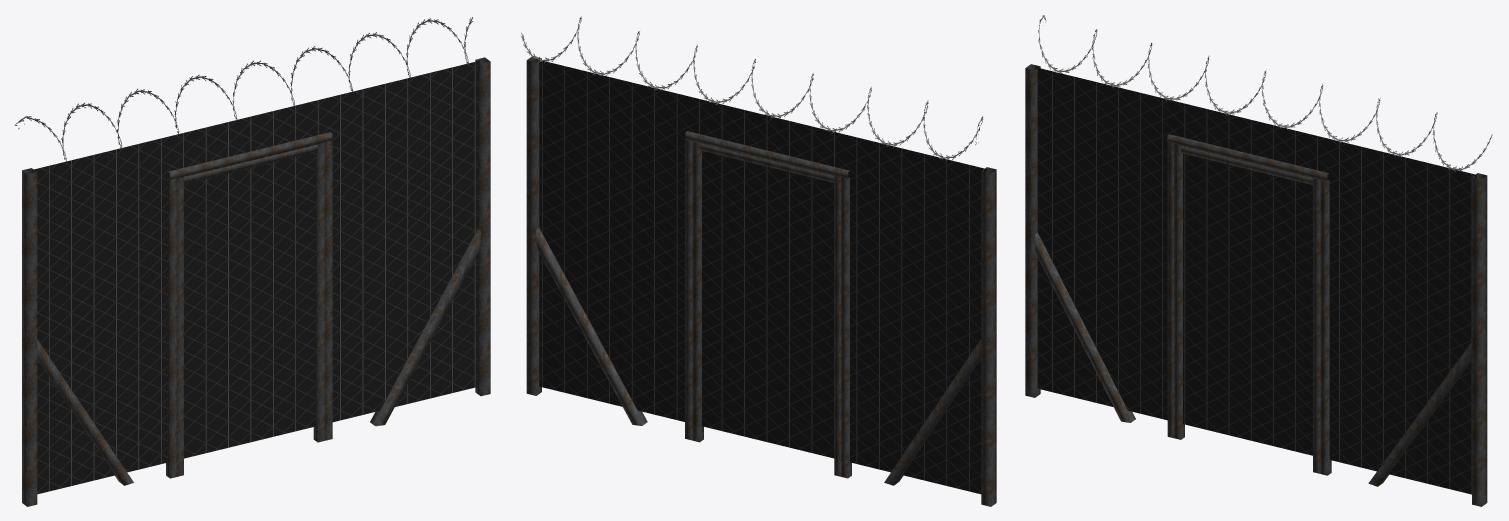
The model's file is VallaConPuerta.fbx.
3 views of the same model, side by side, from view 1: azimuth 30°, elevation 25°; view 2: azimuth 150°, elevation 25°; view 3: azimuth 330°, elevation 25° (orthographic).
Parts seen in each view (by area): view 1: polySurface1, polySurface3, Bara4, Bara3, Bara5, Bara6, Espino, Bara7; view 2: polySurface1, polySurface3, Bara4, Bara3, Bara5, Bara6, Espino, Bara7; view 3: polySurface1, polySurface3, Bara4, Bara3, Bara6, Bara5, Espino, Bara7.
Part boxes in pixels (left/top/right/bottom): polySurface1: left=32, top=60, right=480, bottom=494; polySurface3: left=176, top=142, right=324, bottom=476; Bara4: left=22, top=168, right=480, bottom=506; Bara3: left=475, top=57, right=490, bottom=396; Bara5: left=166, top=178, right=177, bottom=478; Bara6: left=325, top=140, right=332, bottom=440; Espino: left=14, top=17, right=472, bottom=161; Bara7: left=168, top=132, right=332, bottom=180; polySurface1: left=537, top=59, right=986, bottom=494; polySurface3: left=692, top=142, right=841, bottom=476; Bara4: left=536, top=167, right=996, bottom=506; Bara3: left=526, top=56, right=541, bottom=395; Bara5: left=841, top=177, right=851, bottom=478; Bara6: left=685, top=139, right=692, bottom=440; Espino: left=521, top=16, right=983, bottom=160; Bara7: left=685, top=131, right=849, bottom=179; polySurface1: left=1035, top=67, right=1476, bottom=494; polySurface3: left=1174, top=144, right=1320, bottom=473; Bara4: left=1025, top=64, right=1471, bottom=486; Bara3: left=1472, top=173, right=1487, bottom=506; Bara6: left=1320, top=180, right=1331, bottom=475; Bara5: left=1167, top=142, right=1174, bottom=438; Espino: left=1038, top=15, right=1492, bottom=171; Bara7: left=1167, top=134, right=1328, bottom=181.
Bounding box in the file's own units: 12.46 × 10.11 × 1.36.
